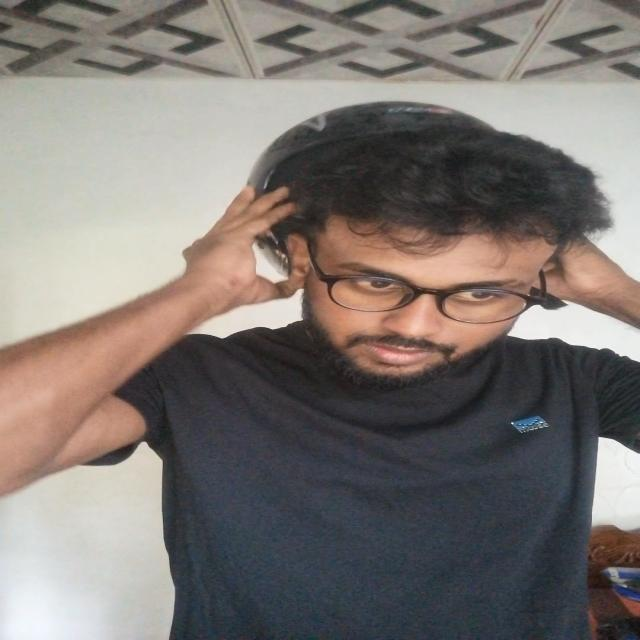Person: (13, 112, 640, 640)
